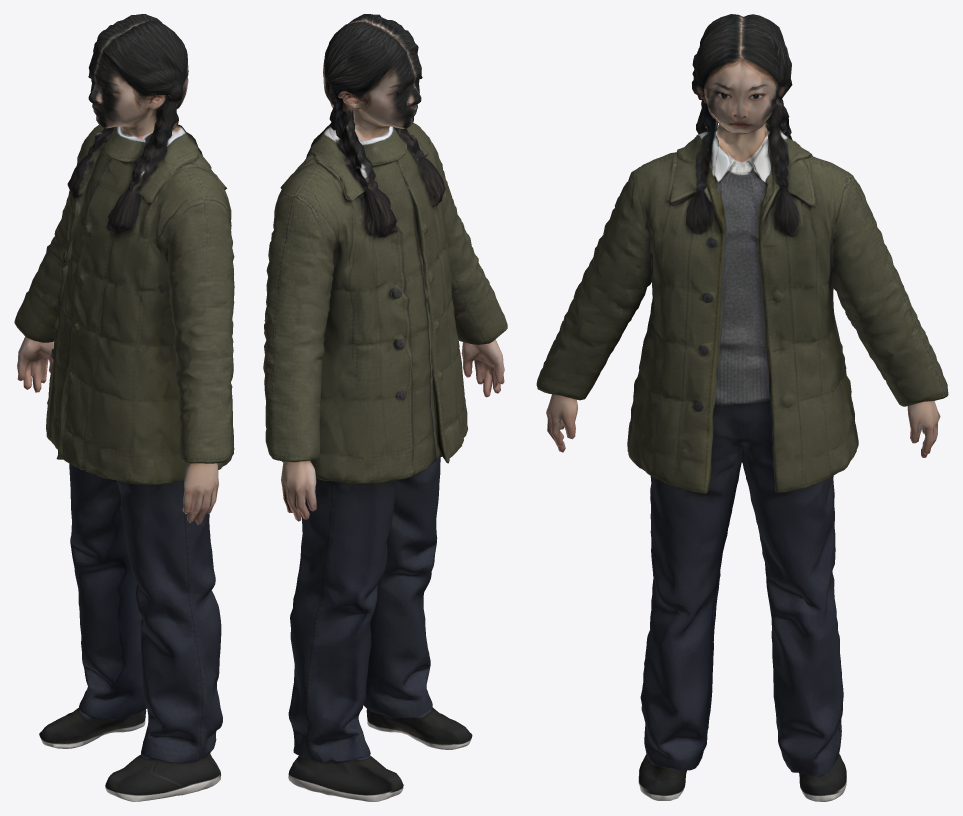
Rendered from char_ye_hero_v1_janus.glb.
The picture shows the model from 3 angles, left to right: view 1: azimuth 30°, elevation 25°; view 2: azimuth 150°, elevation 25°; view 3: azimuth 270°, elevation 25°; orthographic projection. The views are drawn at different scales.
Visible parts, largest first — view 1: tripo_node_05b040bd-fd98-4e54-aae5-00ffd961d5fa; view 2: tripo_node_05b040bd-fd98-4e54-aae5-00ffd961d5fa; view 3: tripo_node_05b040bd-fd98-4e54-aae5-00ffd961d5fa.
Part boxes in pixels (<box>): tripo_node_05b040bd-fd98-4e54-aae5-00ffd961d5fa: <box>14,14,234,801</box>; tripo_node_05b040bd-fd98-4e54-aae5-00ffd961d5fa: <box>263,14,507,801</box>; tripo_node_05b040bd-fd98-4e54-aae5-00ffd961d5fa: <box>536,14,948,801</box>.
Size of the model in its own units: 0.2174 by 1 by 0.4876.
Materials: 1 (1 with a texture image).
